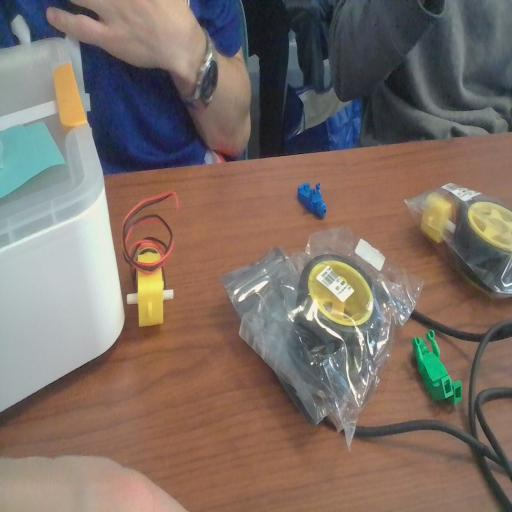green LEGO minifig: (412, 326, 466, 412)
